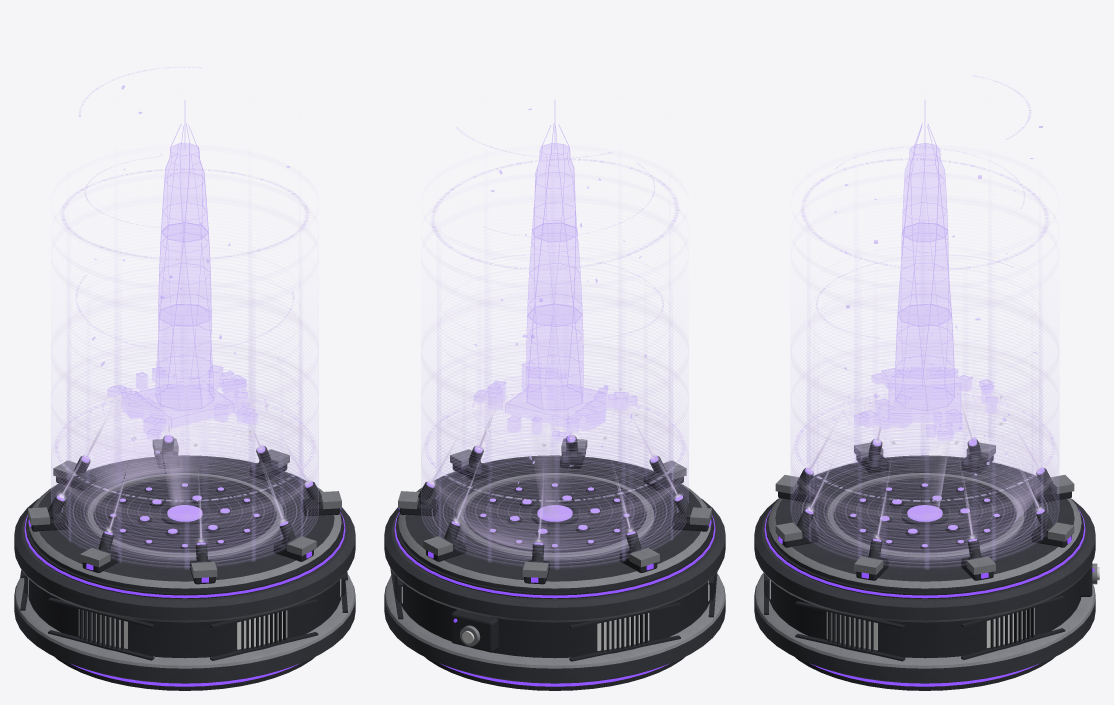
File: holo_cylinder.glb
The picture shows the model from 3 angles, left to right: view 1: azimuth 30°, elevation 25°; view 2: azimuth 150°, elevation 25°; view 3: azimuth 270°, elevation 25°; orthographic projection.
Parts seen in each view (by area): view 1: part_base_LOD0, part_holo_LOD0, part_lens_LOD0, part_emitters_LOD0; view 2: part_base_LOD0, part_holo_LOD0, part_lens_LOD0, part_emitters_LOD0; view 3: part_base_LOD0, part_holo_LOD0, part_lens_LOD0, part_emitters_LOD0.
Part boxes in pixels (x1,y1,x2,y2): part_base_LOD0: [14, 455, 355, 690]; part_holo_LOD0: [51, 66, 318, 569]; part_lens_LOD0: [93, 478, 276, 552]; part_emitters_LOD0: [28, 435, 341, 584]; part_base_LOD0: [384, 455, 725, 690]; part_holo_LOD0: [421, 100, 688, 569]; part_lens_LOD0: [463, 478, 646, 552]; part_emitters_LOD0: [398, 435, 711, 584]; part_base_LOD0: [754, 455, 1099, 690]; part_holo_LOD0: [790, 75, 1059, 569]; part_lens_LOD0: [833, 478, 1016, 552]; part_emitters_LOD0: [775, 439, 1074, 580].
Size of what is drawn, in the model's own units: 1.12 by 2.02 by 1.13.
20 materials, 13 textured.
